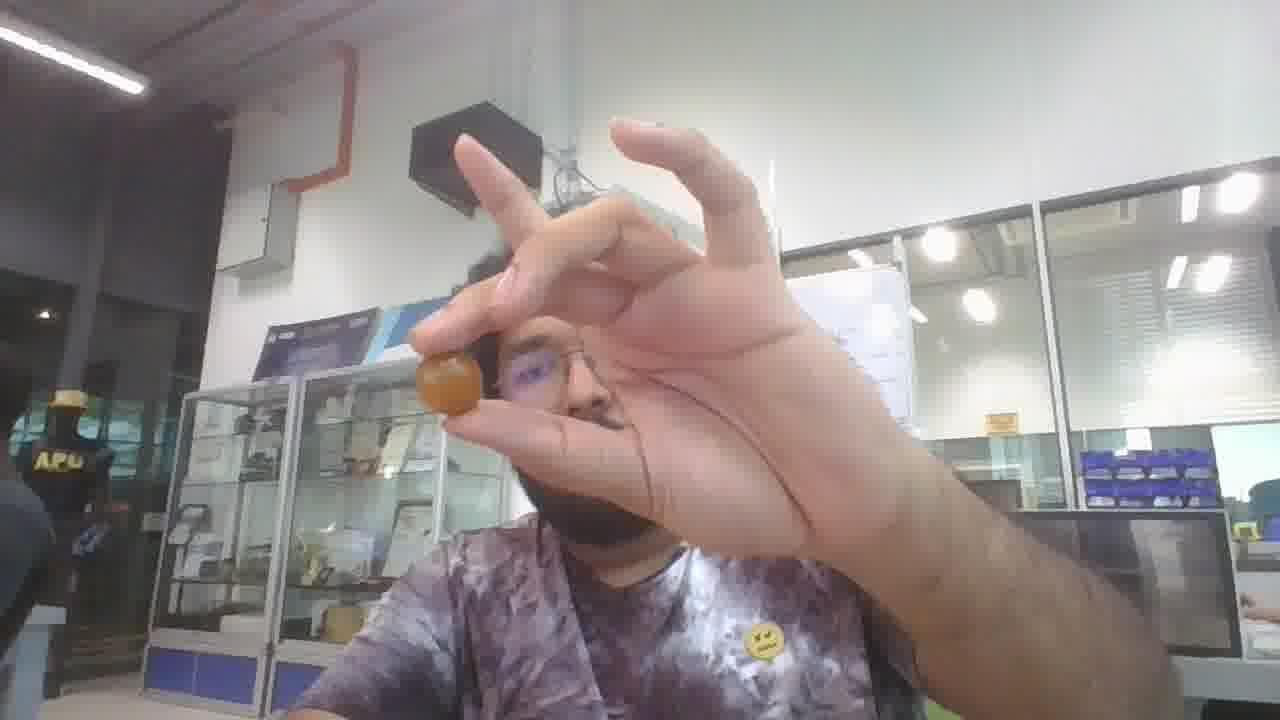yellow_cherry_tomato: (417, 352, 482, 416)
